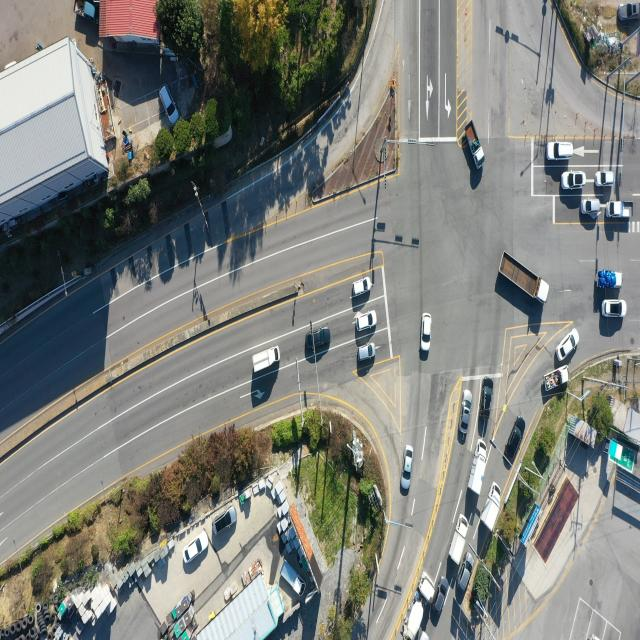car: (502, 415, 527, 455), (159, 84, 180, 128), (185, 524, 207, 564), (556, 329, 578, 363), (458, 550, 474, 595), (303, 328, 330, 354), (402, 443, 416, 491), (213, 506, 236, 534), (459, 390, 472, 438), (433, 574, 448, 614), (482, 375, 495, 419), (544, 141, 574, 160), (355, 310, 377, 333), (561, 171, 586, 190), (421, 314, 432, 354), (617, 2, 640, 21), (604, 298, 628, 316), (352, 277, 372, 298), (355, 344, 375, 364), (595, 171, 615, 187), (582, 199, 600, 216)
medium_truck: (498, 253, 548, 307), (404, 574, 436, 640), (469, 440, 490, 496)
small_truck: (482, 482, 504, 532), (448, 515, 468, 568), (468, 120, 487, 170), (252, 344, 280, 376), (281, 560, 305, 596), (543, 367, 572, 391), (598, 270, 623, 289), (606, 200, 632, 218), (74, 2, 96, 22)
